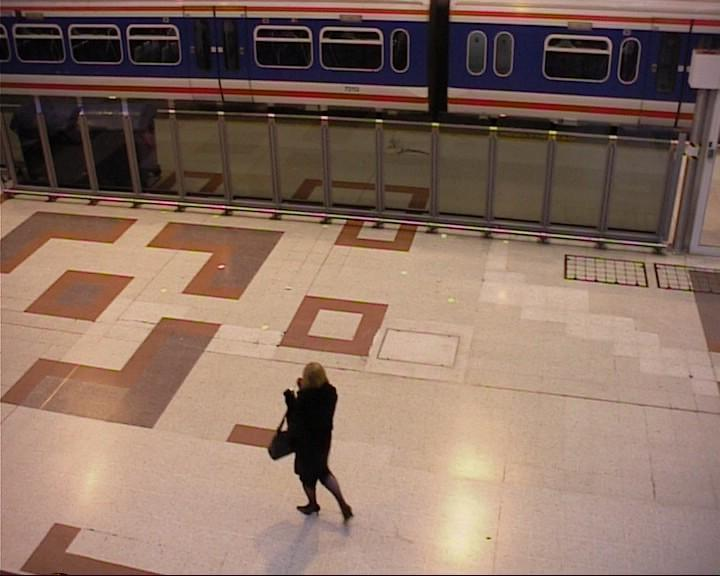person: (283, 359, 354, 529)
